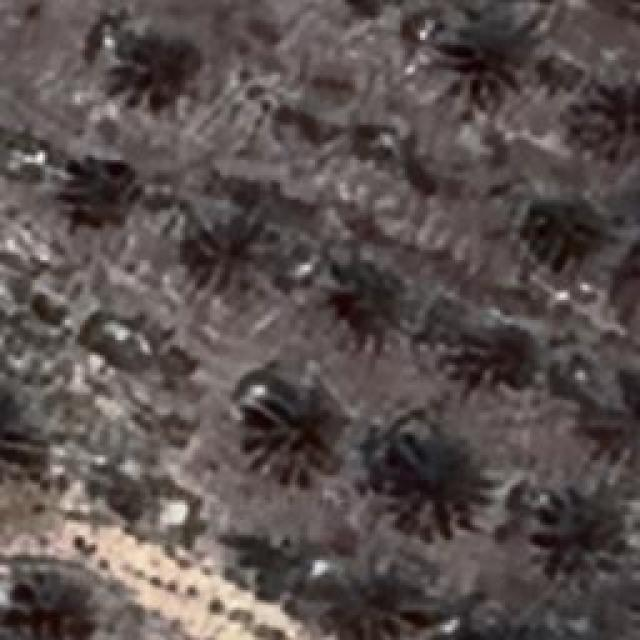PalmTree: (101, 13, 204, 116), (242, 385, 340, 485), (389, 431, 479, 539), (328, 550, 426, 640), (579, 338, 640, 475), (454, 16, 554, 99), (60, 150, 150, 240), (541, 492, 624, 586), (334, 265, 416, 353), (195, 210, 283, 290), (526, 196, 612, 274), (562, 78, 636, 160), (11, 567, 93, 640), (458, 322, 536, 396), (0, 384, 47, 490), (450, 601, 560, 640)
